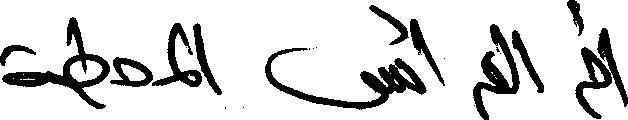X: (266, 0, 403, 114), (65, 12, 107, 113), (575, 0, 609, 119), (482, 19, 506, 119), (0, 40, 46, 91), (168, 18, 198, 91), (518, 28, 543, 97), (200, 21, 220, 99), (405, 14, 423, 99), (113, 52, 150, 91), (611, 44, 627, 111), (425, 38, 443, 97), (508, 25, 516, 98), (475, 77, 480, 119)
